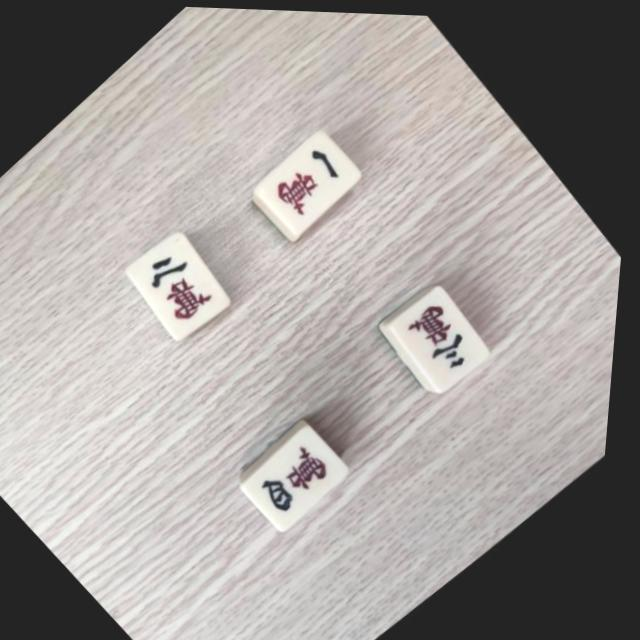sc1: (261, 127, 368, 230)
sc2: (133, 231, 242, 336)
sc3: (399, 280, 508, 386)
sc4: (255, 423, 365, 529)
